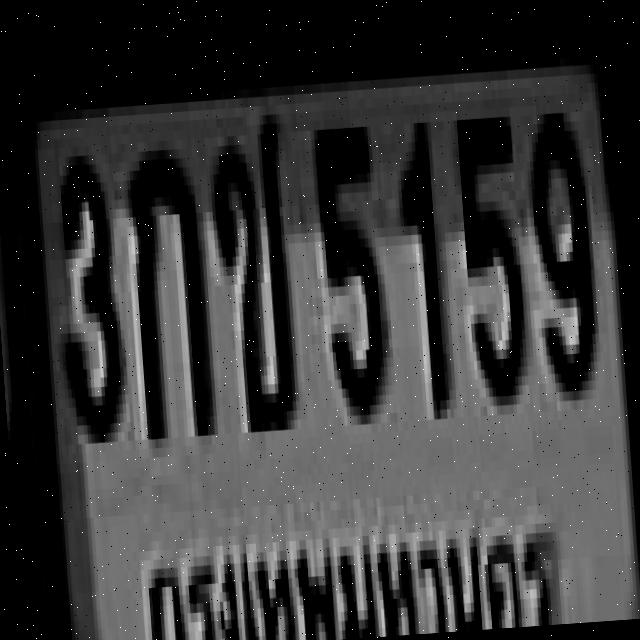1: (389, 112, 446, 412)
10GorGai: (122, 133, 209, 434)
19ChorChang: (205, 104, 297, 424)
3: (48, 144, 124, 436)
5: (307, 117, 388, 417), (449, 107, 525, 398)
9: (522, 102, 596, 393)
Bangkok: (138, 509, 559, 640)
